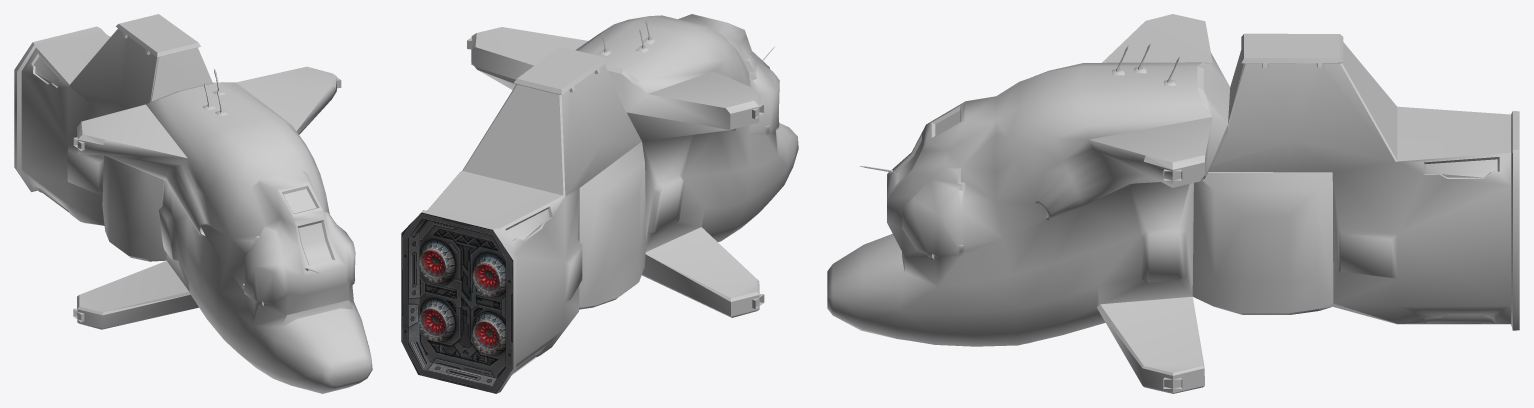
File: multiguncorvette.obj
3 renders of one model, left to right at view 1: azimuth 30°, elevation 25°; view 2: azimuth 150°, elevation 25°; view 3: azimuth 270°, elevation 25°, orthographic. The views are drawn at different scales.
Visible parts, largest first — view 1: Tai_MultiGunCorvette, Tai_MultiGunCorvette_badge; view 2: Tai_MultiGunCorvette, Tai_MultiGunCorvette_Engine, Tai_MultiGunCorvette_badge; view 3: Tai_MultiGunCorvette, Tai_MultiGunCorvette_badge.
Part boxes in pixels (x1=…): Tai_MultiGunCorvette: x1=14, y1=14, x2=372, y2=393; Tai_MultiGunCorvette_badge: x1=102, y1=155, x2=146, y2=235; Tai_MultiGunCorvette: x1=419, y1=14, x2=798, y2=393; Tai_MultiGunCorvette_Engine: x1=401, y1=212, x2=513, y2=393; Tai_MultiGunCorvette_badge: x1=598, y1=163, x2=645, y2=275; Tai_MultiGunCorvette: x1=827, y1=14, x2=1519, y2=393; Tai_MultiGunCorvette_badge: x1=1214, y1=190, x2=1316, y2=281.
Size of the model in its own units: 21.18 by 18.58 by 40.13.
